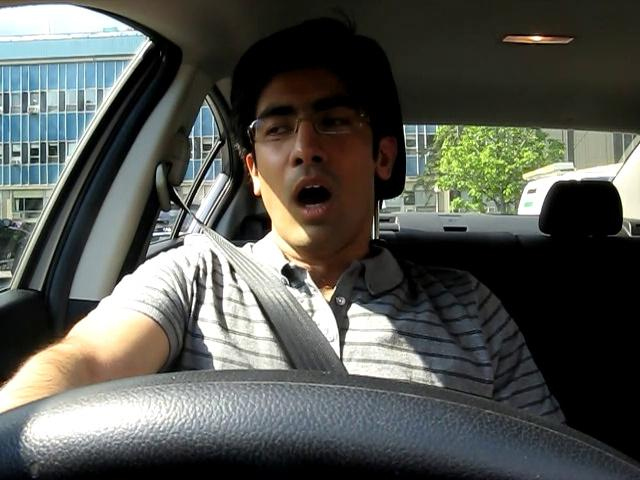close_eyeL: (252, 116, 303, 147)
close_eyeR: (309, 104, 367, 140)
yawn: (274, 174, 354, 224)
